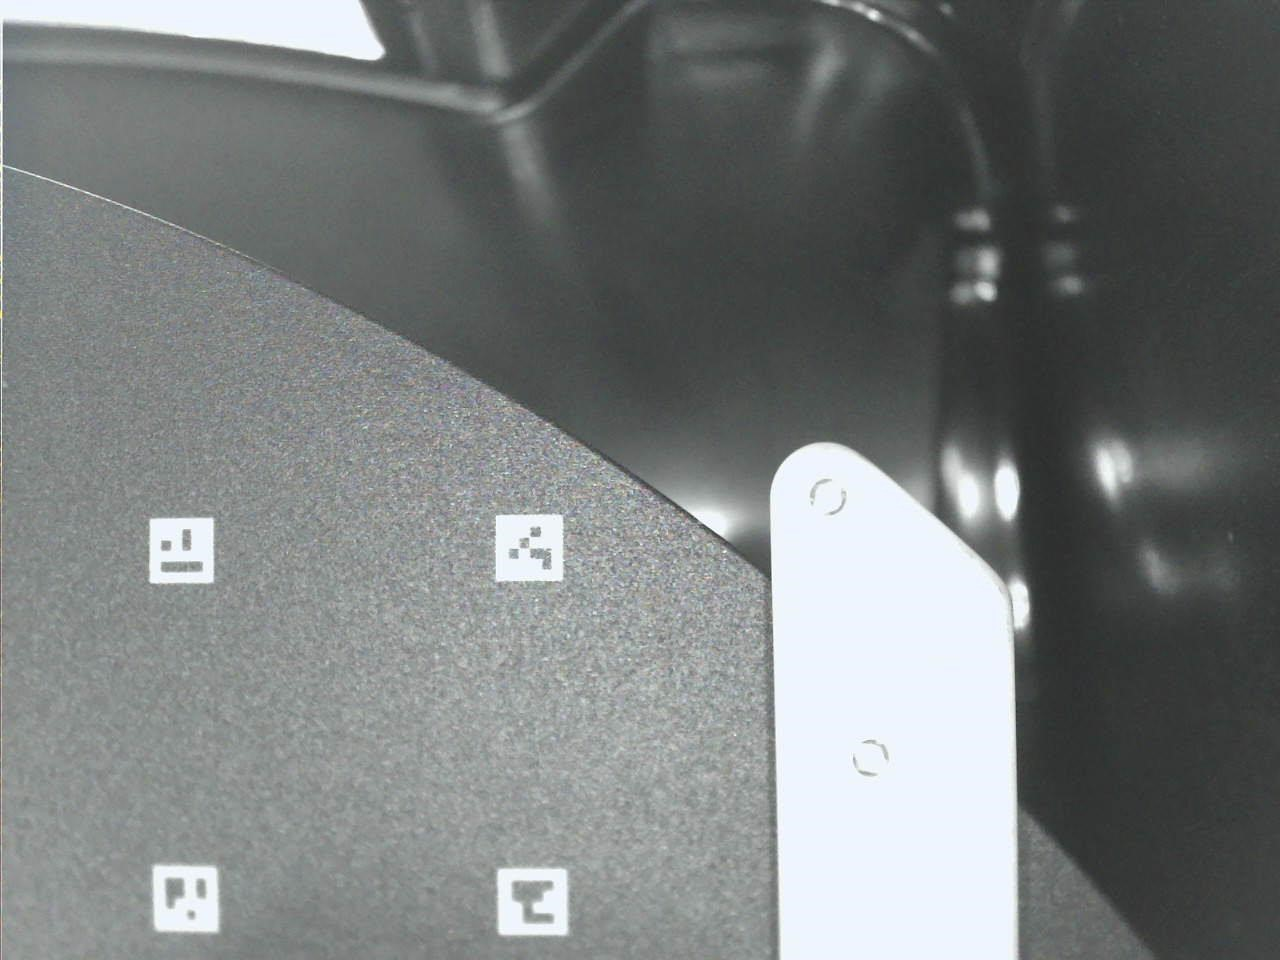forktip: (755, 421, 1031, 960)
